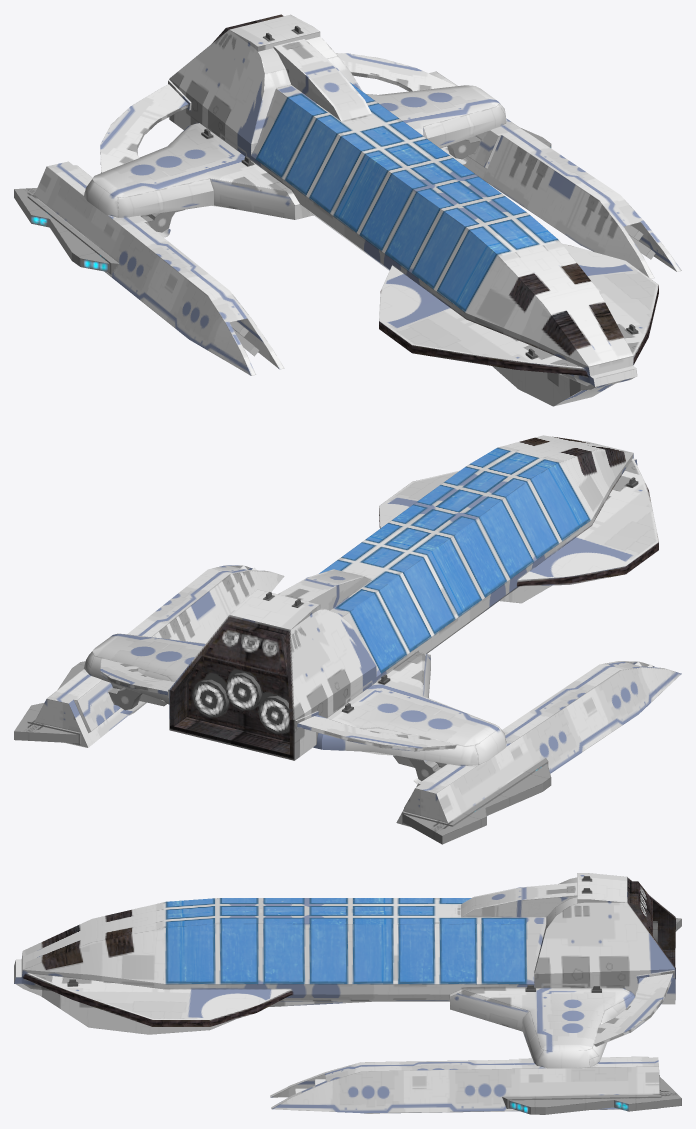
File: ship4.glb
3 views of the same model, one above another, from view 1: azimuth 30°, elevation 25°; view 2: azimuth 150°, elevation 25°; view 3: azimuth 270°, elevation 25° (orthographic). The views are drawn at different scales.
Parts seen in each view (by area): view 1: ship-taurus; view 2: ship-taurus; view 3: ship-taurus.
Part boxes in pixels (bbox=[...]): ship-taurus: bbox=[14, 14, 681, 406]; ship-taurus: bbox=[14, 435, 681, 844]; ship-taurus: bbox=[14, 873, 681, 1114].
Size of the model in its own units: 23.22 by 7.89 by 33.14.
1 material, 1 textured.
